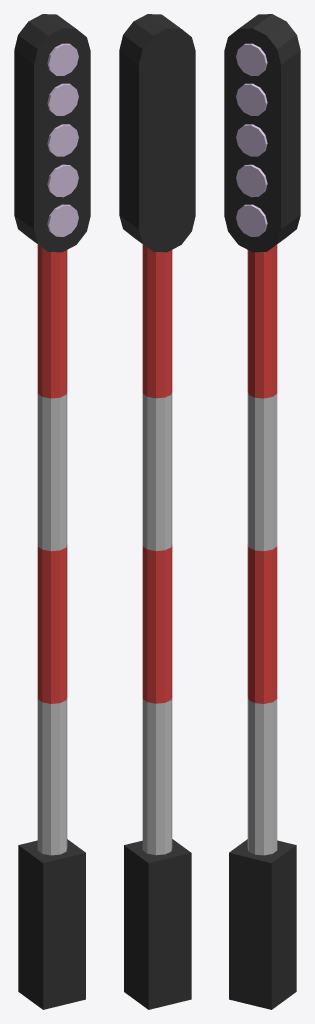
File: SemaphoreHalfautom.fbx
The picture shows the model from 3 angles, left to right: view 1: azimuth 30°, elevation 25°; view 2: azimuth 210°, elevation 25°; view 3: azimuth 330°, elevation 25°; orthographic projection.
Visible parts, largest first — view 1: Pole, Light3, Light4, Light5, Light2, Light1; view 2: Pole; view 3: Pole, Light3, Light4, Light5, Light2, Light1.
Boxes of the visible parts, <box> form: Pole: <box>14,14,90,1009</box>; Light3: <box>47,124,78,156</box>; Light4: <box>47,164,78,197</box>; Light5: <box>47,204,78,236</box>; Light2: <box>47,83,78,115</box>; Light1: <box>47,43,78,75</box>; Pole: <box>119,14,195,1009</box>; Pole: <box>224,14,300,1009</box>; Light3: <box>236,124,267,156</box>; Light4: <box>236,164,267,197</box>; Light5: <box>236,204,267,236</box>; Light2: <box>236,83,267,115</box>; Light1: <box>236,43,267,75</box>.
Bounding box in the file's own units: 45.21 × 740 × 34.1.
